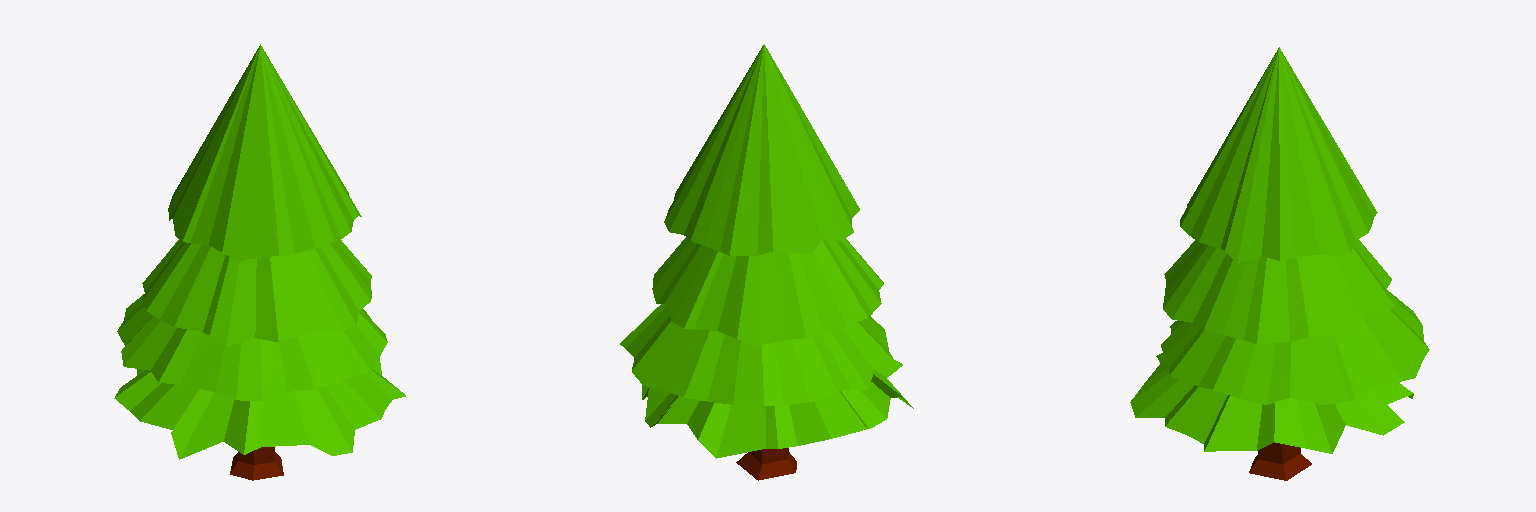
Rendered from spar3.obj.
3 renders of one model, left to right at view 1: azimuth 30°, elevation 25°; view 2: azimuth 150°, elevation 25°; view 3: azimuth 270°, elevation 25°, orthographic.
Visible parts, largest first — view 1: Icosphere.003_Icosphere.004, Icosphere.002_Icosphere.003, Icosphere_Icosphere.001, Icosphere.001_Icosphere.002, Cylinder; view 2: Icosphere.003_Icosphere.004, Icosphere.002_Icosphere.003, Icosphere.001_Icosphere.002, Icosphere_Icosphere.001, Cylinder; view 3: Icosphere.003_Icosphere.004, Icosphere.002_Icosphere.003, Icosphere.001_Icosphere.002, Icosphere_Icosphere.001, Cylinder.
Boxes of the visible parts, <box> form: Icosphere.003_Icosphere.004: <box>168,44,361,260</box>; Icosphere.002_Icosphere.003: <box>142,239,371,346</box>; Icosphere_Icosphere.001: <box>114,357,405,459</box>; Icosphere.001_Icosphere.002: <box>117,294,387,400</box>; Cylinder: <box>230,447,283,480</box>; Icosphere.003_Icosphere.004: <box>664,44,859,255</box>; Icosphere.002_Icosphere.003: <box>652,237,883,345</box>; Icosphere.001_Icosphere.002: <box>620,304,894,405</box>; Icosphere_Icosphere.001: <box>642,360,913,458</box>; Cylinder: <box>736,448,796,480</box>; Icosphere.003_Icosphere.004: <box>1180,47,1377,263</box>; Icosphere.002_Icosphere.003: <box>1163,239,1394,343</box>; Icosphere.001_Icosphere.002: <box>1161,290,1429,404</box>; Icosphere_Icosphere.001: <box>1130,353,1413,453</box>; Cylinder: <box>1249,442,1311,480</box>.
Bounding box in the file's own units: 2.15 × 3.59 × 2.31.